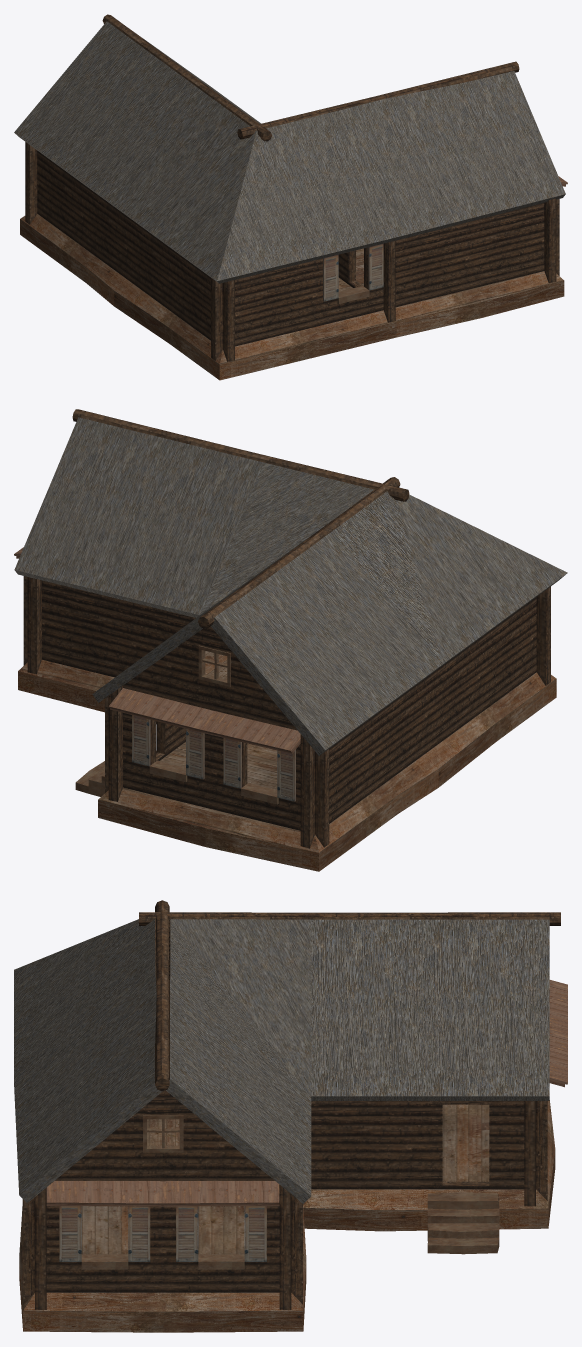
Rendered from Mouse Trap Cabin 2.glb.
The picture shows the model from 3 angles, top to bottom: view 1: azimuth 30°, elevation 25°; view 2: azimuth 150°, elevation 25°; view 3: azimuth 270°, elevation 25°; orthographic projection. The views are drawn at different scales.
Visible parts, largest first — view 1: Cabin Two; view 2: Cabin Two; view 3: Cabin Two.
Part boxes in pixels (bbox=[...]): Cabin Two: bbox=[14, 14, 567, 380]; Cabin Two: bbox=[14, 409, 567, 871]; Cabin Two: bbox=[14, 900, 567, 1332].
Bounding box in the file's own units: 14.24 × 7.31 × 14.27.
Materials: 6 (6 with a texture image).
